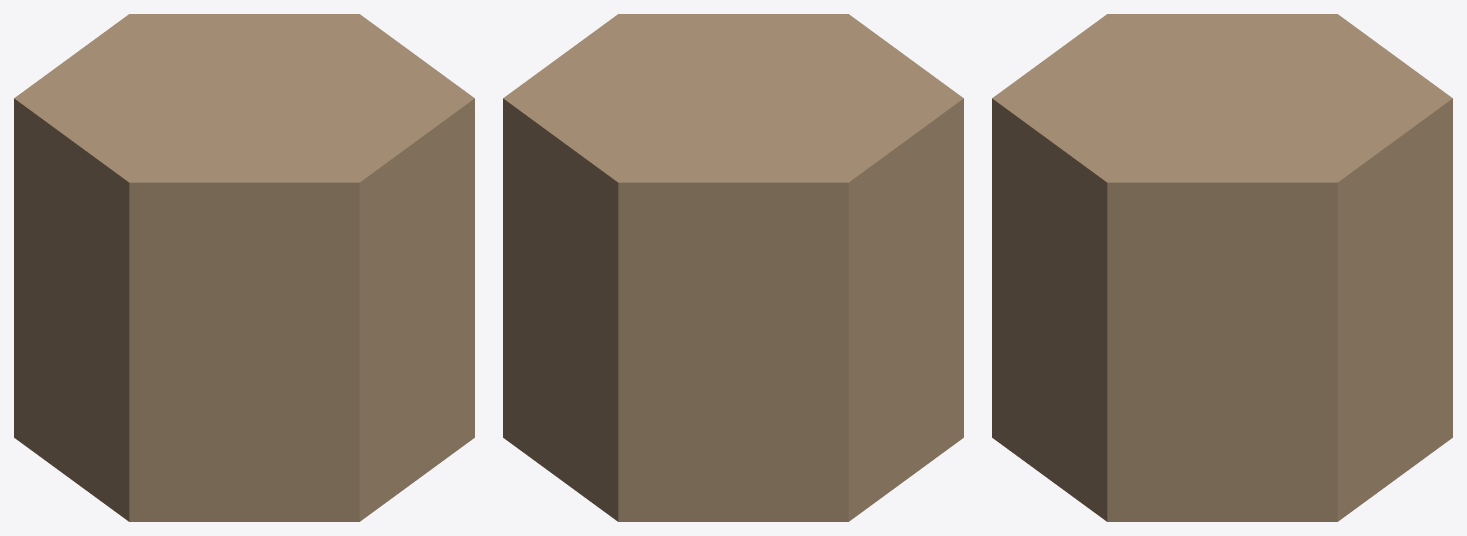
The model's file is prop-froe-cleave-block-fr1.fbx.
3 renders of one model, left to right at view 1: azimuth 30°, elevation 25°; view 2: azimuth 150°, elevation 25°; view 3: azimuth 270°, elevation 25°, orthographic.
Visible parts, largest first — view 1: prop-froe-cleave-block-fr1; view 2: prop-froe-cleave-block-fr1; view 3: prop-froe-cleave-block-fr1.
Boxes of the visible parts, bbox=[...] form: prop-froe-cleave-block-fr1: bbox=[14, 14, 474, 521]; prop-froe-cleave-block-fr1: bbox=[503, 14, 963, 521]; prop-froe-cleave-block-fr1: bbox=[992, 14, 1452, 521].
Bounding box in the file's own units: 27.71 × 26 × 32.
